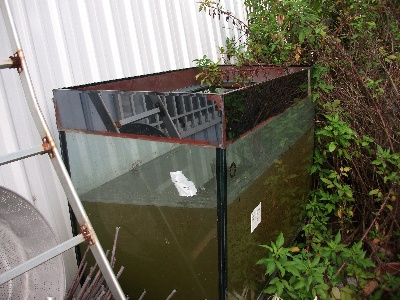aquarium: (56, 64, 316, 299)
